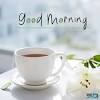cup: (13, 48, 67, 86)
